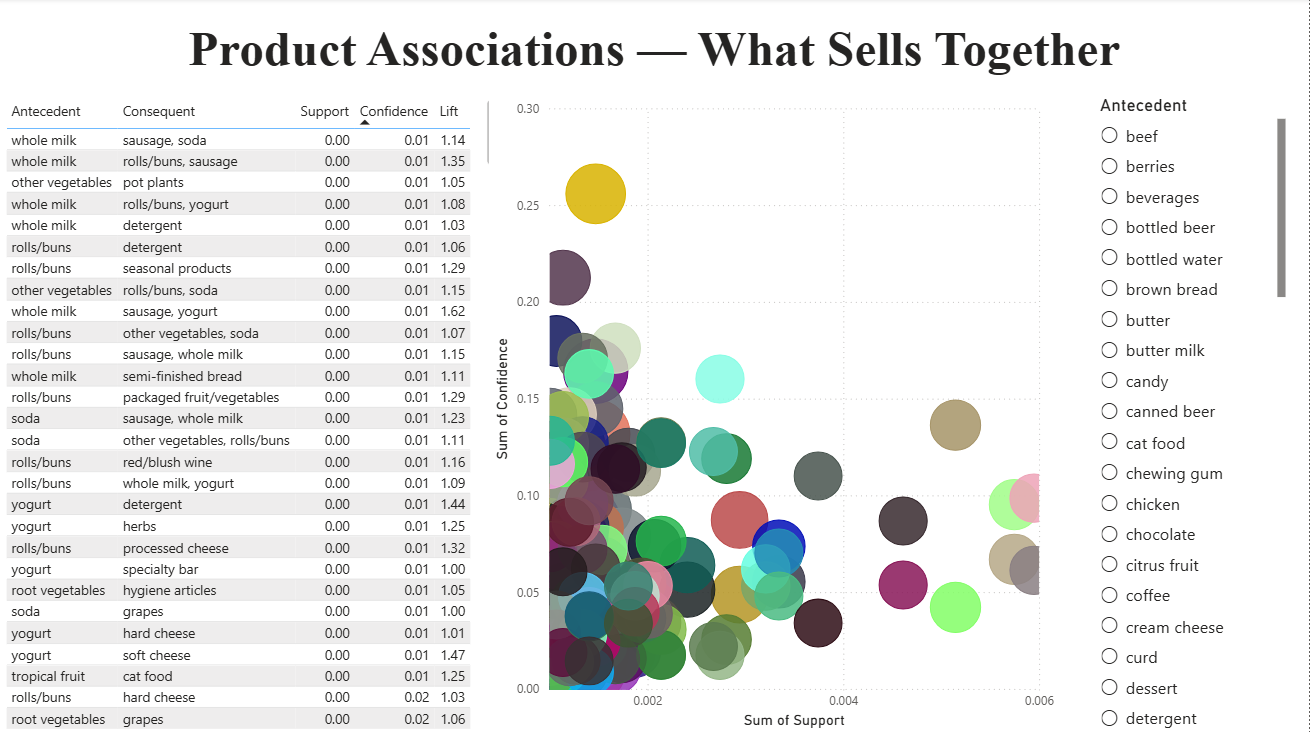

Layout of this report page (visuals, bound fields, positions):
{"tool":"powerbi","page":{"name":"Page 2","canvas":[1280,720],"ordinal":1},"visuals":[{"type":"tableEx","fields":{"Values":["association_rules_clean.Antecedent","association_rules_clean.Consequent","association_rules_clean.Support","association_rules_clean.Confidence","association_rules_clean.Lift"]},"box":[0,94.3,490,625.7],"z":0},{"type":"scatterChart","fields":{"X":["Sum(association_rules_clean.Support)"],"Y":["Sum(association_rules_clean.Confidence)"],"Size":["Sum(association_rules_clean.Lift)"],"Series":["association_rules_clean.RuleID"]},"box":[478.6,94.3,558.6,625.7],"z":1000},{"type":"listSlicer","fields":{"Values":["association_rules_clean.Antecedent"]},"box":[1071.4,94.3,191.4,625.7],"z":2000},{"type":"textbox","box":[0,17.1,1280,77.1],"z":3000}]}

Visuals, with their boxes in screenshot pixels (x1, y1, x2, y2), scaled from the page's 1280x720 canvas onto the 1310x732 screenshot:
tableEx - association_rules_clean.Antecedent x association_rules_clean.Consequent: pyautogui.locateOnScreen(0, 96, 501, 731)
scatterChart - Sum(association_rules_clean.Support) x Sum(association_rules_clean.Confidence): pyautogui.locateOnScreen(490, 96, 1062, 731)
listSlicer - association_rules_clean.Antecedent: pyautogui.locateOnScreen(1097, 96, 1292, 731)
textbox: pyautogui.locateOnScreen(0, 17, 1309, 96)
